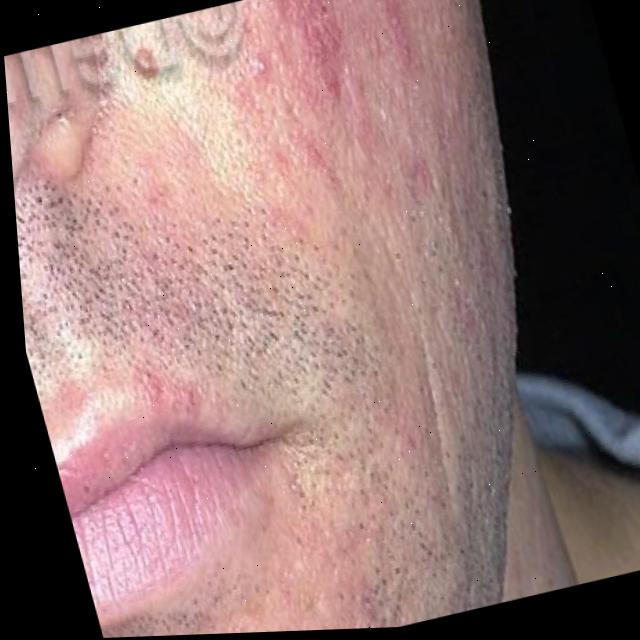Rosacea: (259, 0, 405, 123)
